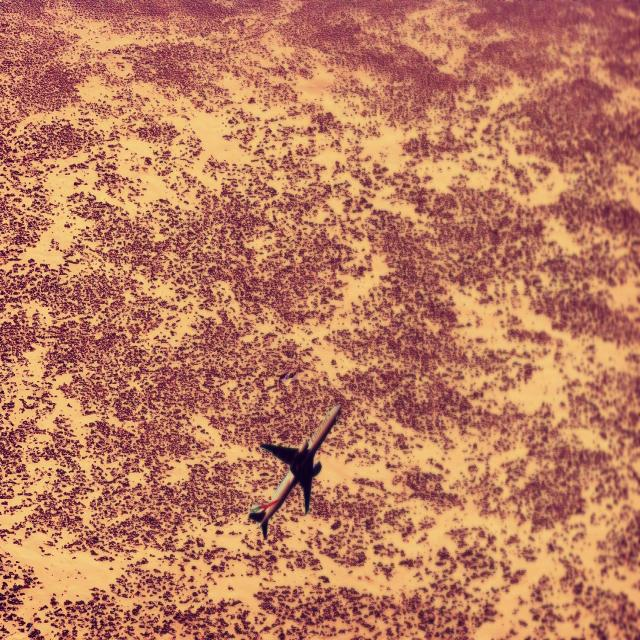airplane: (248, 402, 342, 539)
